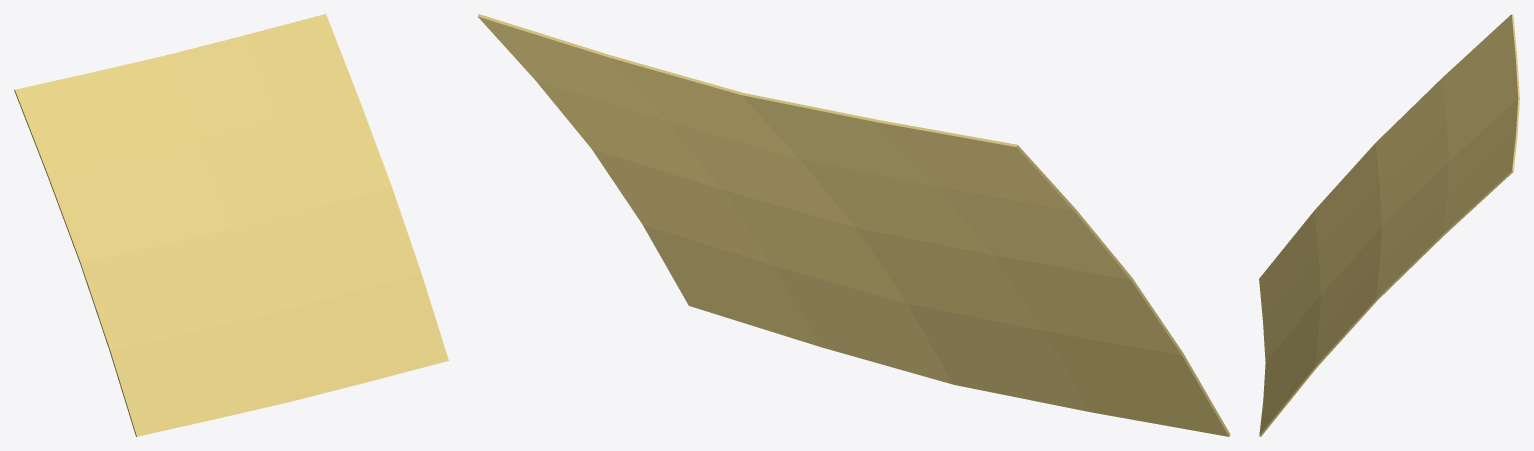
The model's file is LapStengd.fbx.
The picture shows the model from 3 angles, left to right: view 1: azimuth 30°, elevation 25°; view 2: azimuth 150°, elevation 25°; view 3: azimuth 270°, elevation 25°; orthographic projection. The views are drawn at different scales.
Parts seen in each view (by area): view 1: Lap.001; view 2: Lap.001; view 3: Lap.001.
Boxes of the visible parts, x1,y1,x2,y2 form: Lap.001: [14, 14, 448, 436]; Lap.001: [477, 14, 1230, 436]; Lap.001: [1259, 14, 1519, 436].
Bounding box in the file's own units: 26.98 × 21.76 × 18.94.
